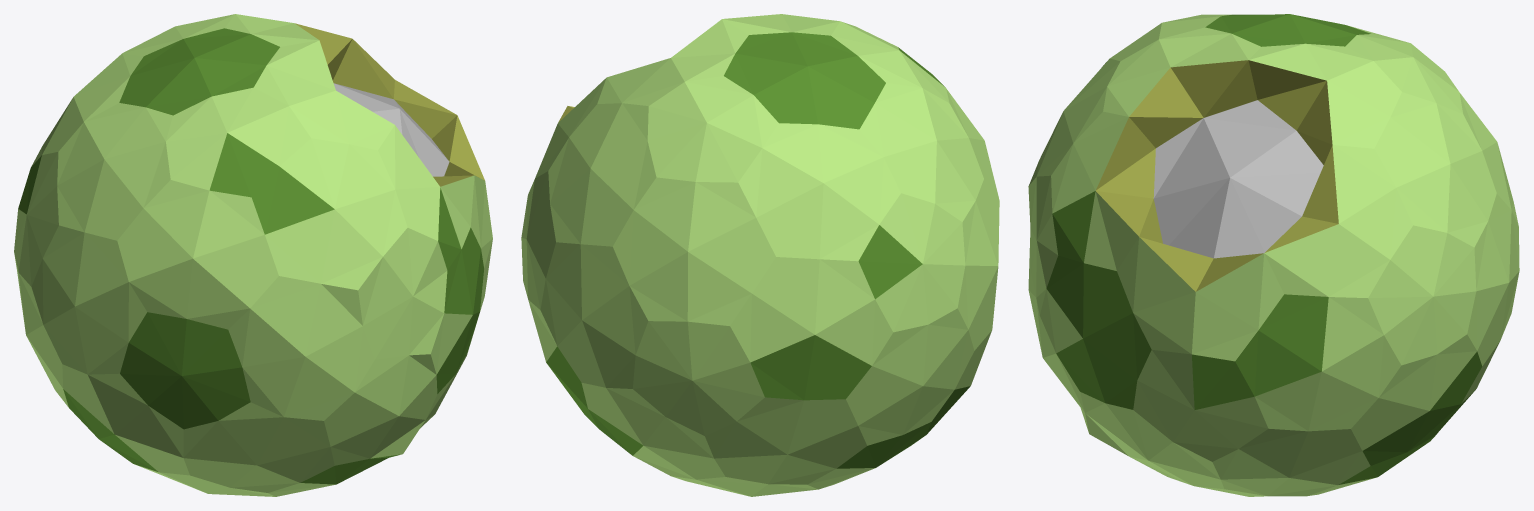
File: sentri.dae
The picture shows the model from 3 angles, left to right: view 1: azimuth 30°, elevation 25°; view 2: azimuth 150°, elevation 25°; view 3: azimuth 270°, elevation 25°; orthographic projection. The views are drawn at different scales.
Parts seen in each view (by area): view 1: sentri; view 2: sentri; view 3: sentri.
Part boxes in pixels (x1,y1,x2,y2): sentri: (14, 14, 492, 496); sentri: (521, 14, 999, 496); sentri: (1028, 14, 1519, 496).
Bounding box in the file's own units: 1.87 × 1.85 × 1.83.
